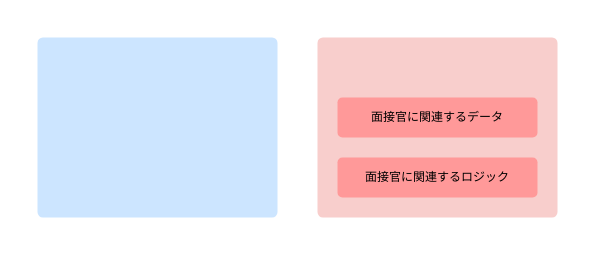
Some shapes in this 594 by 254 pixel diagram are drawn without their labels. Each missing label, with the box of its shape:
ワイ (Wai): (37, 37, 277, 217)
面接官 (Interviewer): (317, 37, 557, 217)
